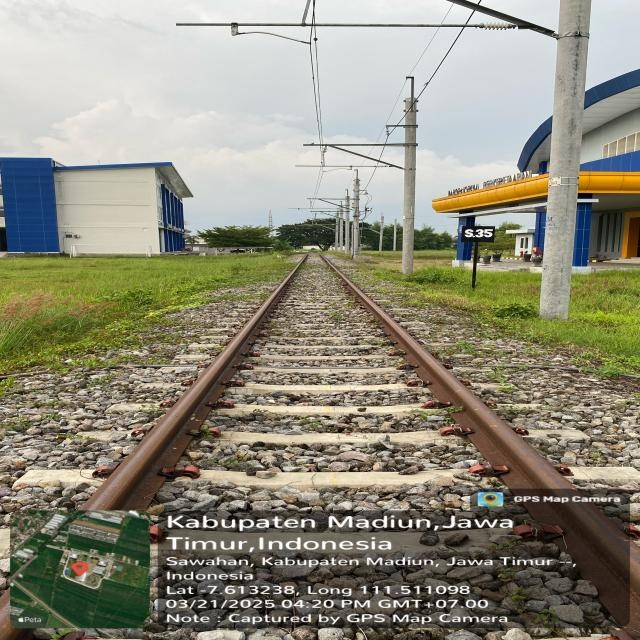rail-detection: (326, 260, 570, 496), (81, 264, 299, 510), (555, 507, 640, 621)
